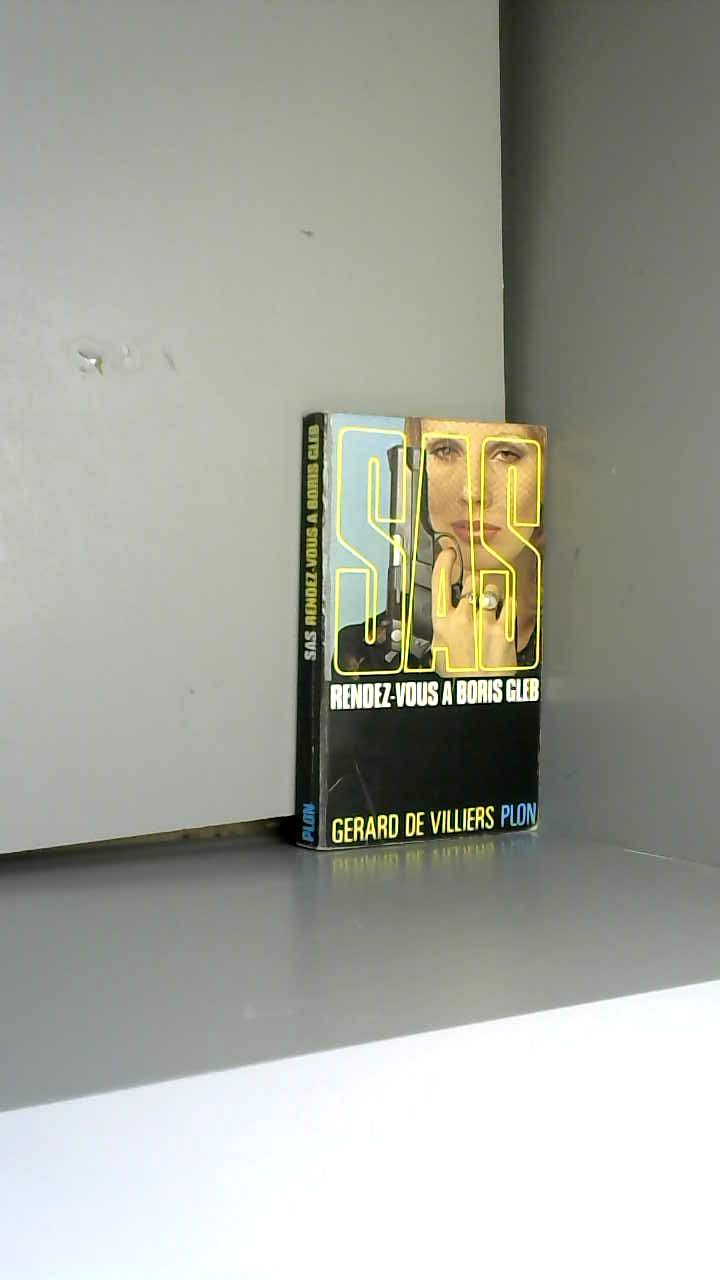book: (258, 369, 591, 892)
